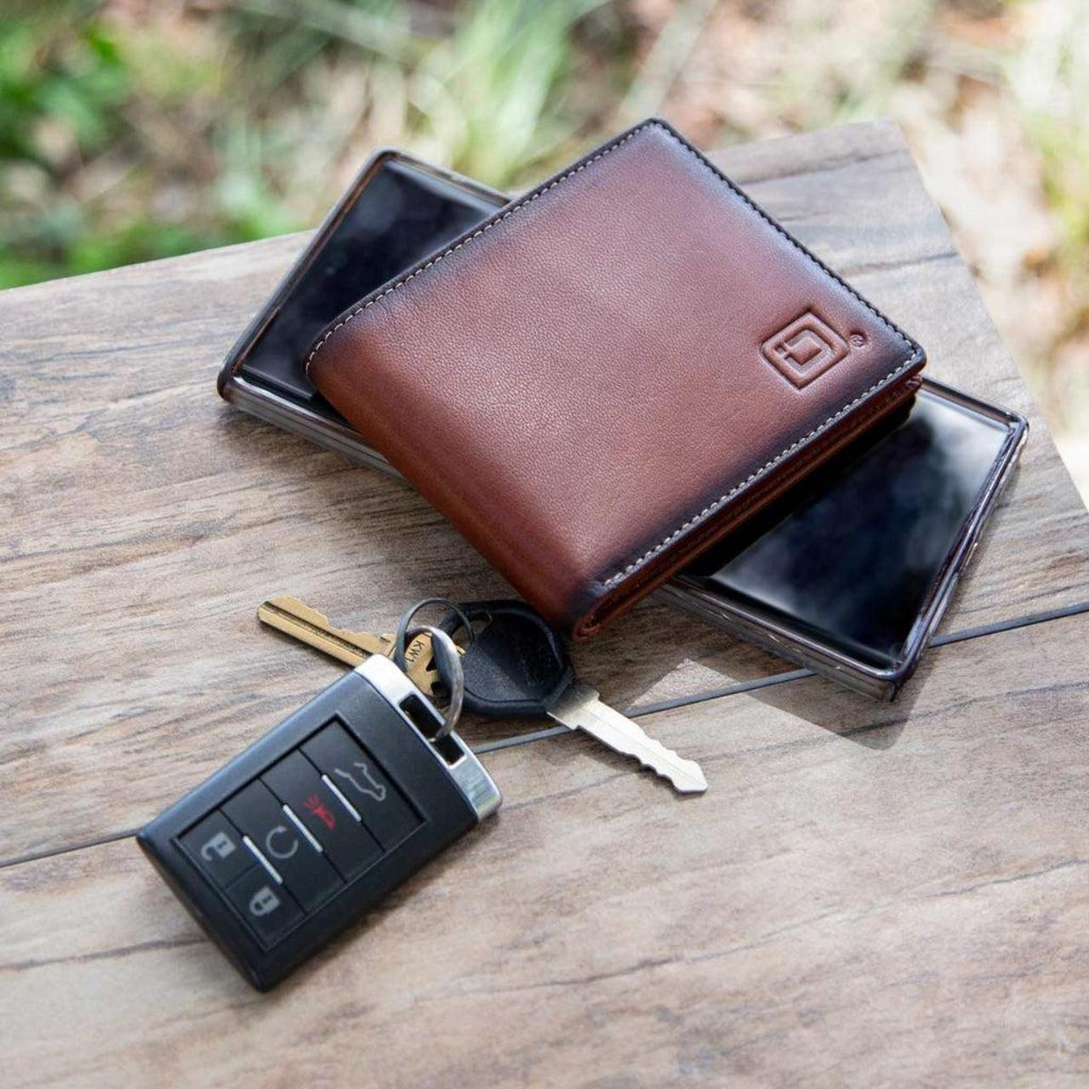wallet: (347, 120, 921, 598)
